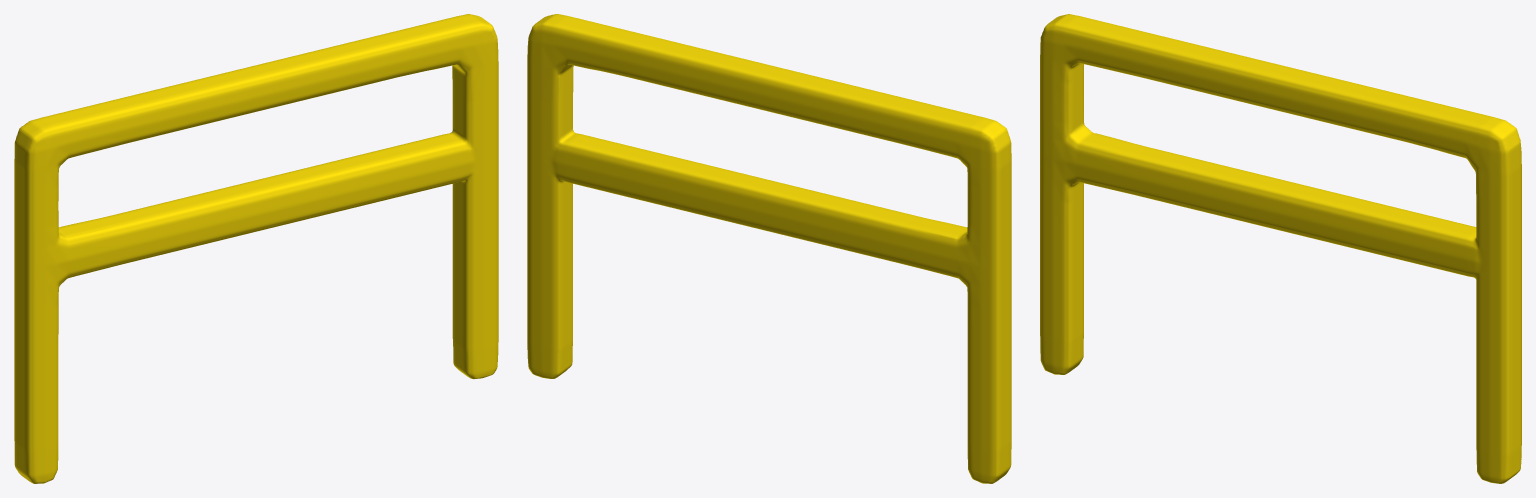
Rendered from GuardRail.glb.
3 renders of one model, left to right at view 1: azimuth 30°, elevation 25°; view 2: azimuth 150°, elevation 25°; view 3: azimuth 330°, elevation 25°, orthographic.
Visible parts, largest first — view 1: Cube; view 2: Cube; view 3: Cube.
Boxes of the visible parts, x1,y1,x2,y2 form: Cube: (14,14,498,483); Cube: (527,14,1011,483); Cube: (1040,14,1521,483).
Bounding box in the file's own units: 3.6 × 2.59 × 0.2402.
